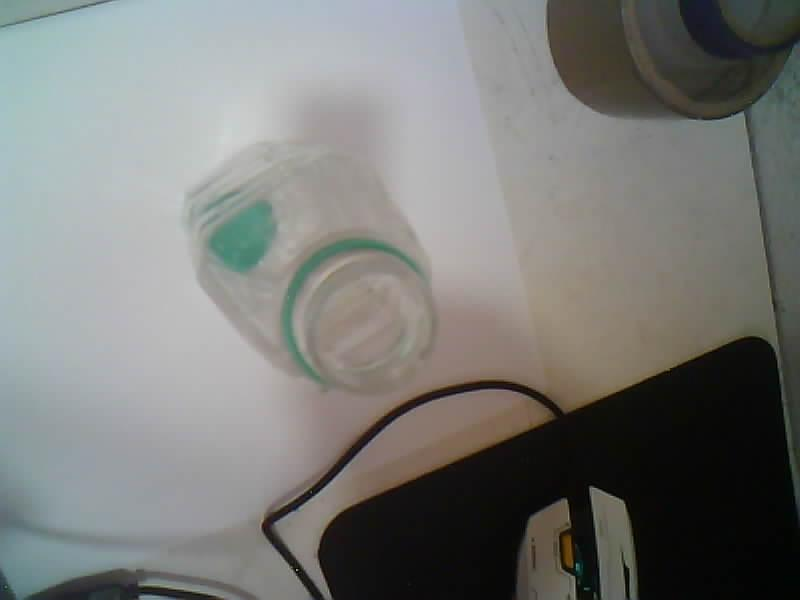non-biodegradable: (186, 143, 435, 391)
